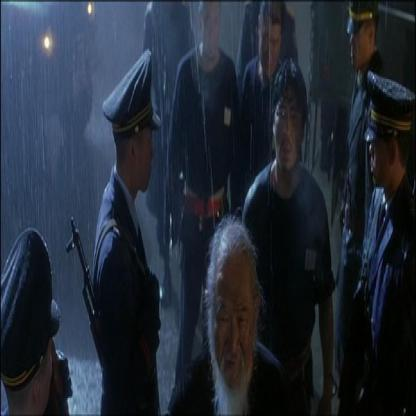Guns: (63, 209, 113, 398)
